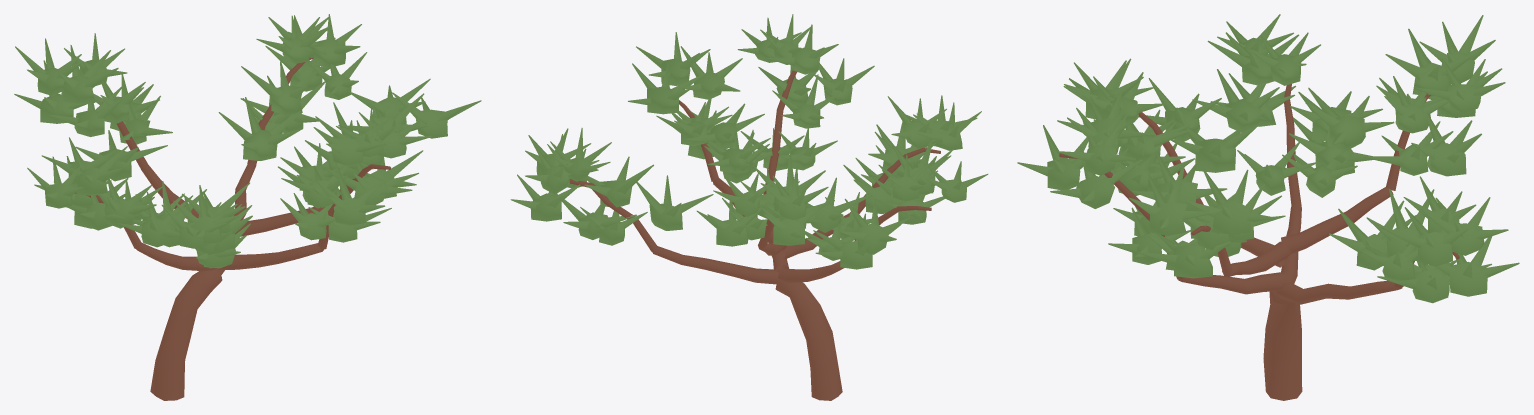
File: Blender_TorreyPine_1.glb
The picture shows the model from 3 angles, left to right: view 1: azimuth 30°, elevation 25°; view 2: azimuth 150°, elevation 25°; view 3: azimuth 270°, elevation 25°; orthographic projection. The views are drawn at different scales.
Visible parts, largest first — view 1: Blender_TorreyPine_1; view 2: Blender_TorreyPine_1; view 3: Blender_TorreyPine_1.
Boxes of the visible parts, bbox=[...] form: Blender_TorreyPine_1: bbox=[14, 14, 481, 400]; Blender_TorreyPine_1: bbox=[510, 14, 988, 400]; Blender_TorreyPine_1: bbox=[1017, 14, 1519, 400].
Bounding box in the file's own units: 13.98 × 10.08 × 13.16.
